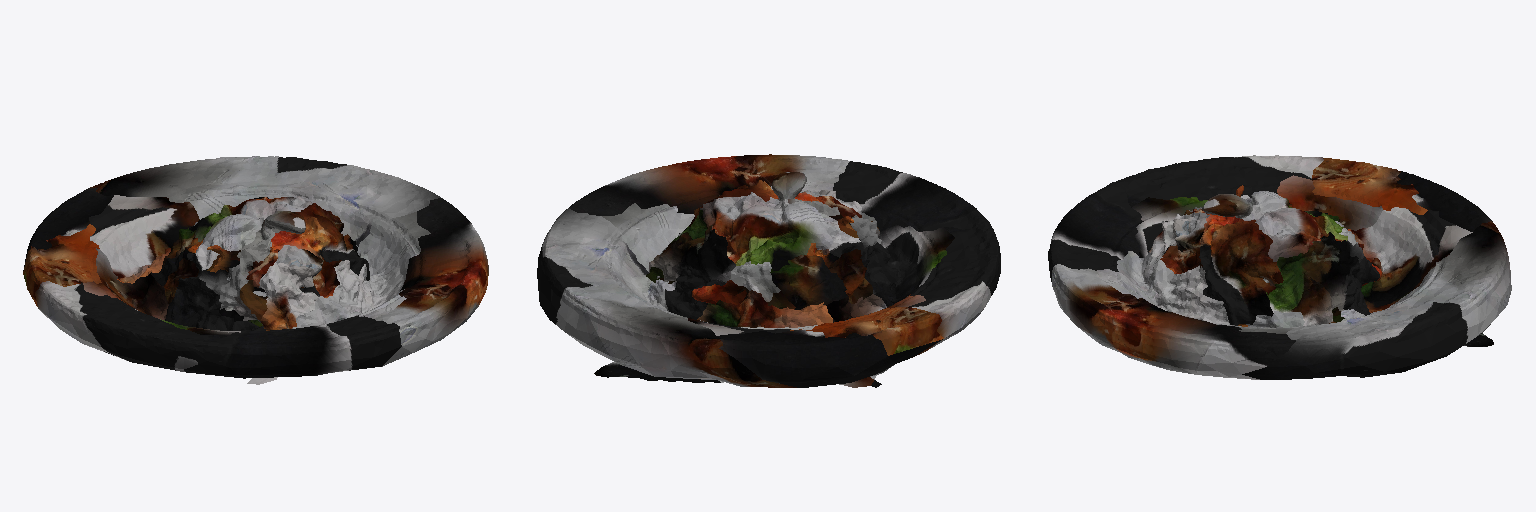
3 views of the same model, side by side, from view 1: azimuth 30°, elevation 25°; view 2: azimuth 150°, elevation 25°; view 3: azimuth 270°, elevation 25° (orthographic).
Size of the model in its own units: 0.1471 by 0.0429 by 0.1476.
Materials: 1 (1 with a texture image).